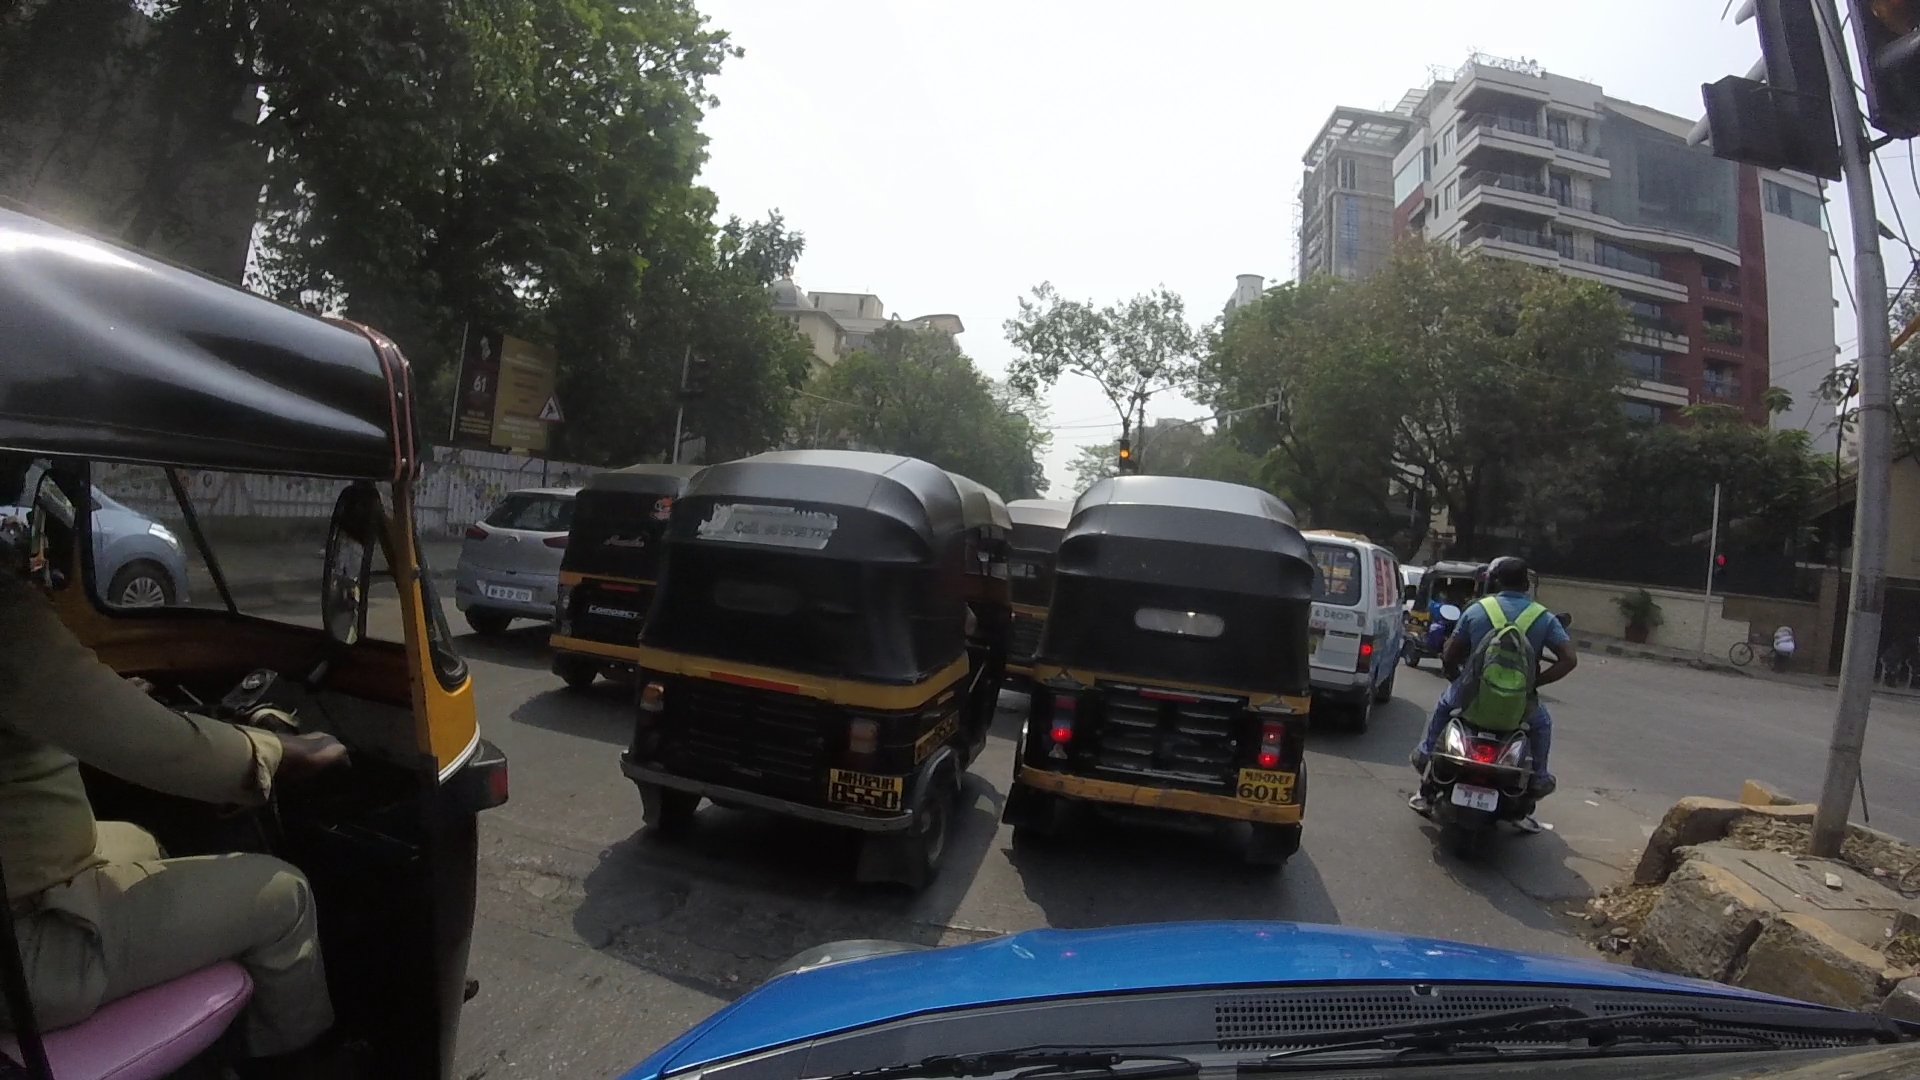bike/scooter: (1416, 563, 1557, 860)
car: (543, 465, 702, 680), (1296, 524, 1399, 727), (465, 480, 596, 624)
rickshaw: (13, 224, 493, 1080), (640, 436, 1002, 886), (1046, 463, 1316, 839)
